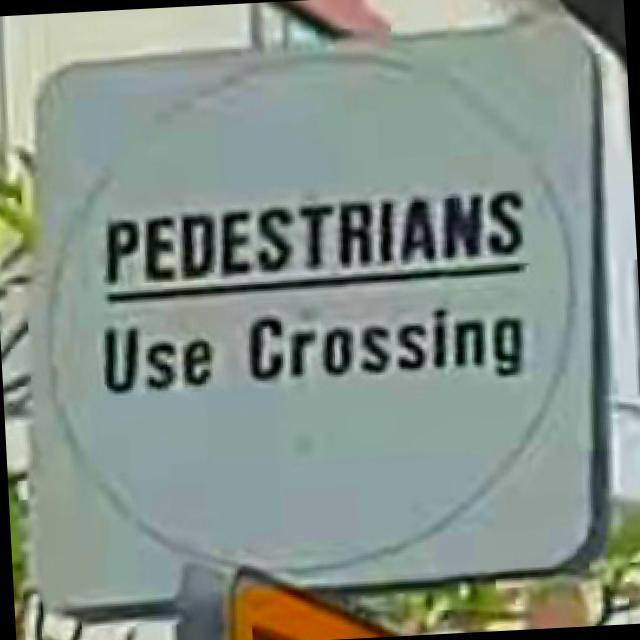pedestriancrossing_sign: (5, 0, 628, 613)
